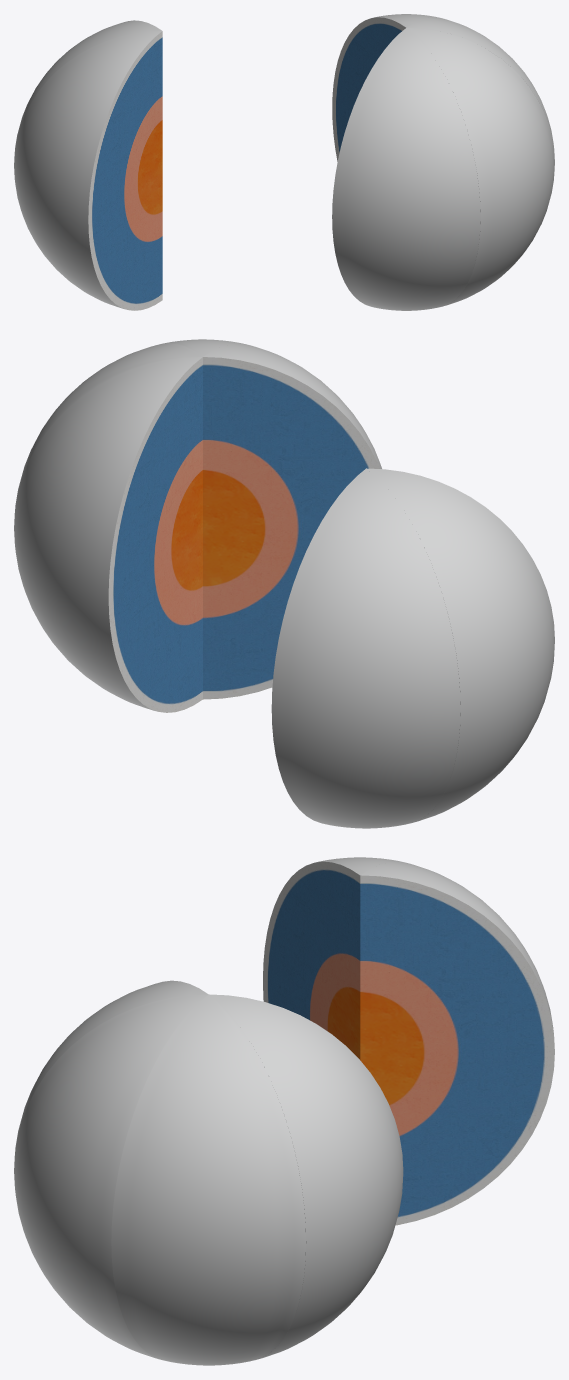
File: SmellBook_r6.gltf
3 views of the same model, one above another, from view 1: azimuth 30°, elevation 25°; view 2: azimuth 150°, elevation 25°; view 3: azimuth 270°, elevation 25° (orthographic). The views are drawn at different scales.
Visible parts, largest first — view 1: Slice 3-Outer Shell, Slice 2-Outer Shell, Slice 4, Slice 2-Mat, Slice 6-Mat, Slice 5, Slice 1-Outer Shell, Slice 6-Outer Shell; view 2: Slice 1-Outer Shell, Slice 3-Mat, Slice 6-Outer Shell, Slice 2-Outer Shell, Slice 6-Mat, Slice 5, Slice 3-Outer Shell, Slice 4; view 3: Slice 5, Slice 1-Mat, Slice 4, Slice 6-Outer Shell, Slice 2-Mat, Slice 3-Outer Shell, Slice 1-Outer Shell, Slice 2-Outer Shell.
Boxes of the visible parts, x1,y1,x2,y2 form: Slice 3-Outer Shell: (332,28,480,310); Slice 2-Outer Shell: (14,31,161,309); Slice 4: (407,28,554,306); Slice 2-Mat: (88,31,162,310); Slice 6-Mat: (332,17,405,161); Slice 5: (407,17,554,171); Slice 1-Outer Shell: (15,20,161,149); Slice 6-Outer Shell: (373,14,439,27); Slice 1-Outer Shell: (271,468,460,828); Slice 3-Mat: (203,357,379,699); Slice 6-Outer Shell: (14,357,202,710); Slice 2-Outer Shell: (366,468,554,822); Slice 6-Mat: (108,357,202,712); Slice 5: (15,343,202,509); Slice 3-Outer Shell: (203,343,381,468); Slice 4: (160,339,245,356); Slice 5: (111,994,305,1365); Slice 1-Mat: (360,875,554,1225); Slice 4: (14,994,208,1359); Slice 6-Outer Shell: (209,994,403,1359); Slice 2-Mat: (263,861,360,1059); Slice 3-Outer Shell: (15,980,207,1149); Slice 1-Outer Shell: (361,861,553,1030); Slice 2-Outer Shell: (315,857,404,875).
Size of the model in its own units: 344 by 200 by 278.
Materials: 2 (1 with a texture image).
